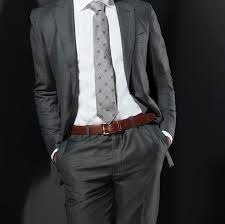F_M_suit jacket: (21, 1, 183, 154)
F_belt: (67, 109, 165, 143)
F_dress pants: (56, 133, 167, 223)
F_tie: (94, 1, 114, 122)
